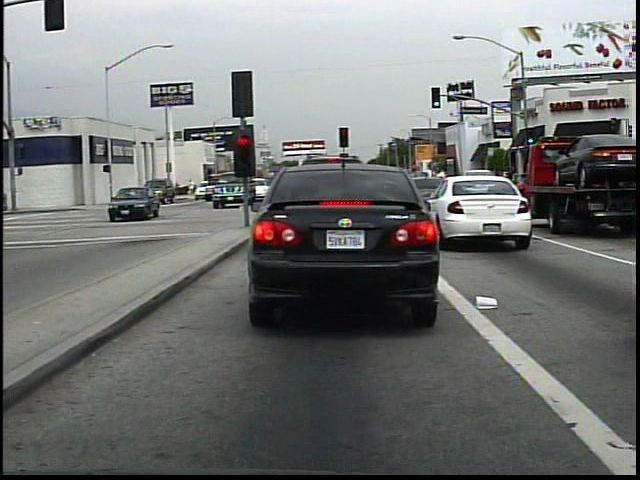person: (188, 175, 198, 201)
